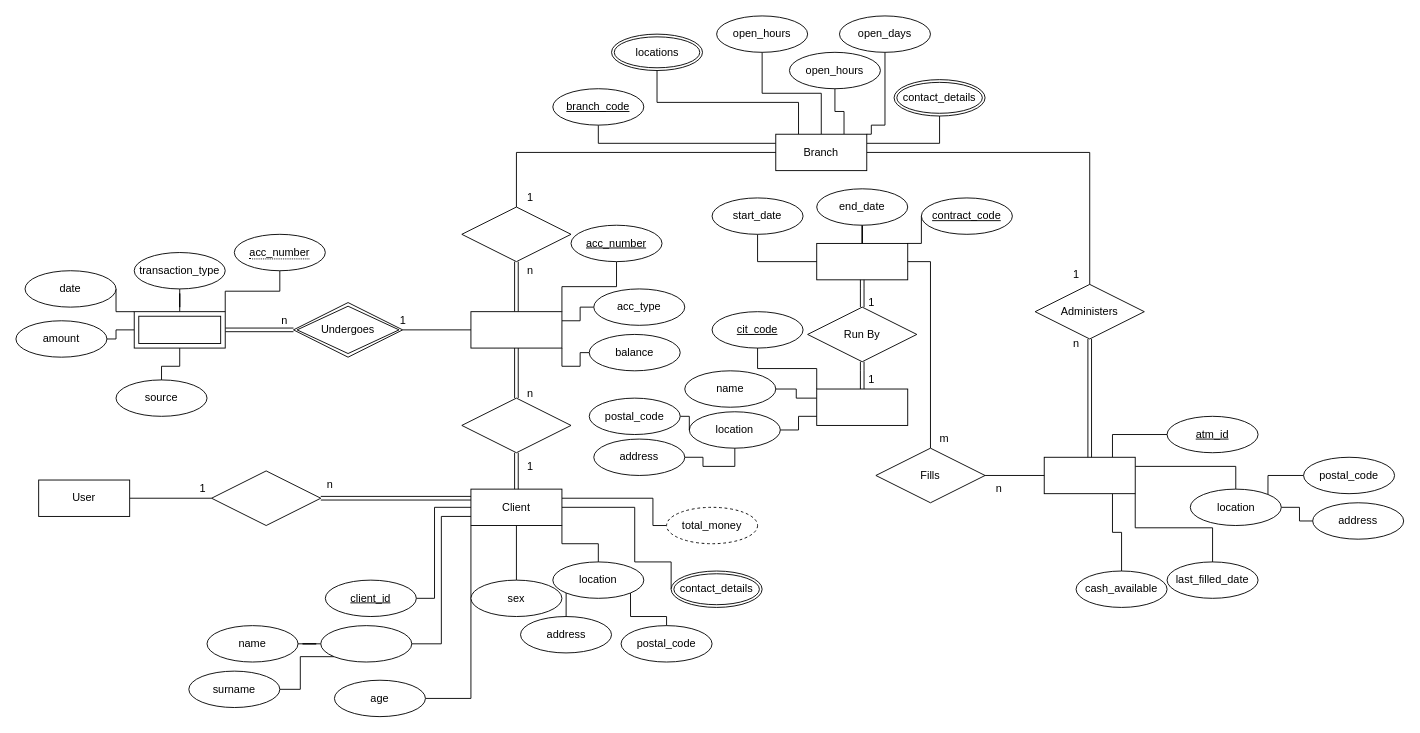
This 1420x733 diagram has some shape labels left out. Here are the shapes that lost their labels. From the top down, the centre of each, then its label:
point 516,234: Maintains
point 862,261: Contract
point 179,329: Transaction
point 516,329: Account
point 516,425: Held by
point 862,406: CIT
point 1089,475: ATM
point 266,498: Created by
point 366,643: fullname
